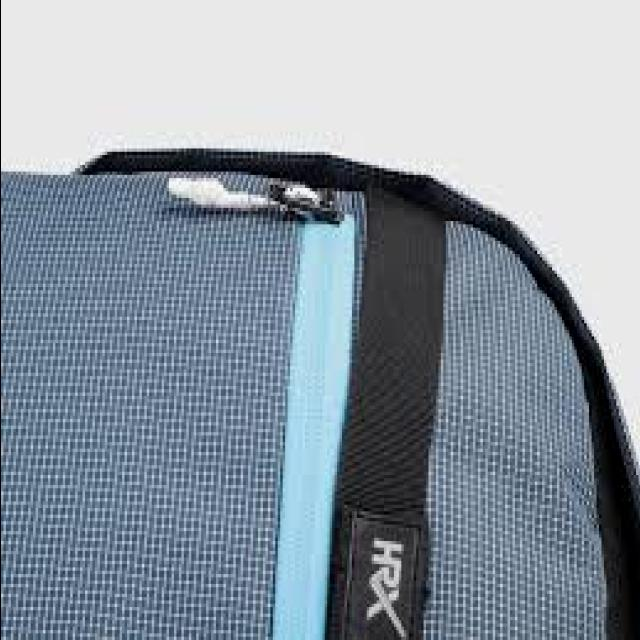backpack: (3, 146, 640, 638)
